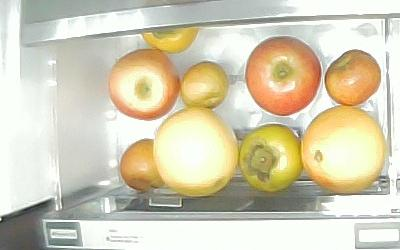apple: (244, 36, 322, 116), (107, 48, 180, 121)
grapefruit: (153, 106, 238, 197), (301, 106, 385, 192)
persimmon: (238, 123, 302, 191), (142, 26, 198, 53)
prune: (324, 49, 381, 106), (118, 138, 164, 191), (181, 61, 228, 110)
